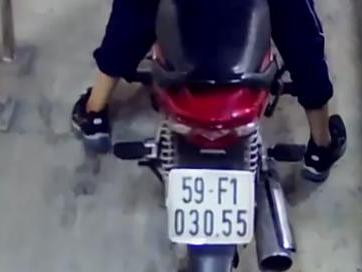num_plate: (167, 168, 257, 246)
